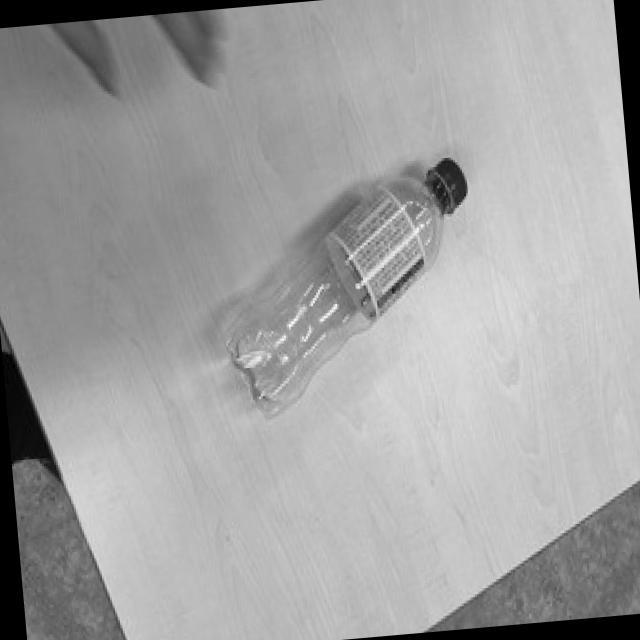good: (196, 150, 494, 418)
